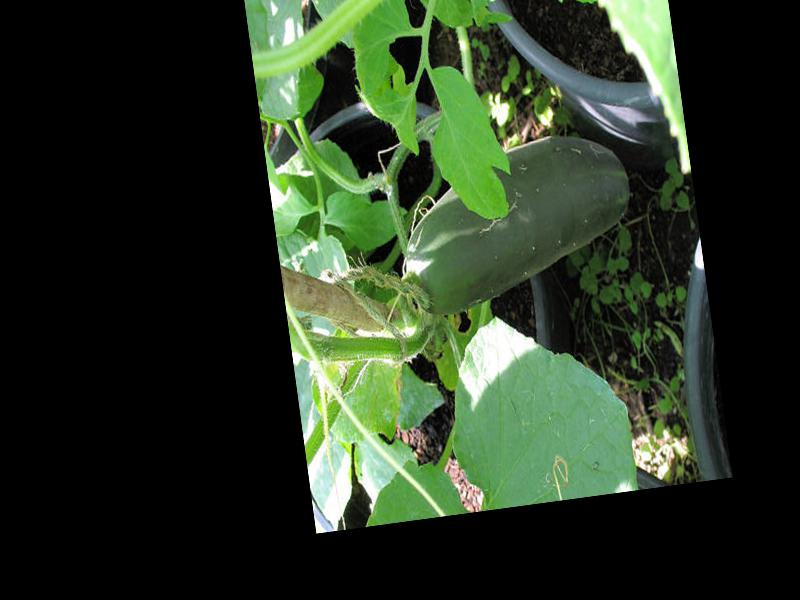Cucumber: (389, 128, 643, 320)
